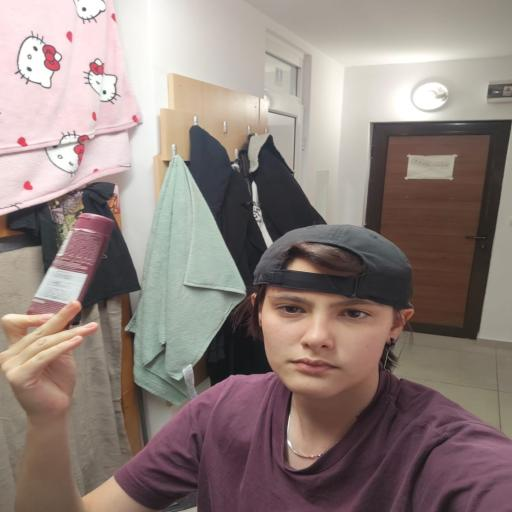Crema Maini: (27, 211, 112, 325)
